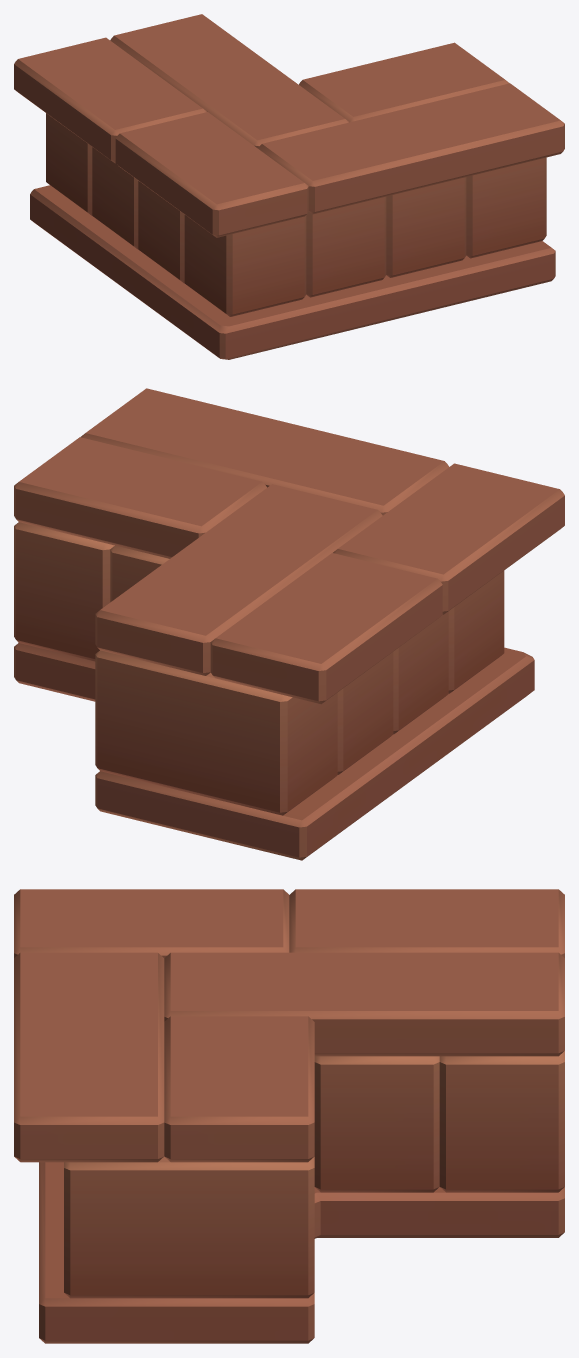
Rendered from bar_outercorner.glb.
3 renders of one model, top to bottom at view 1: azimuth 30°, elevation 25°; view 2: azimuth 150°, elevation 25°; view 3: azimuth 270°, elevation 25°, orthographic. The views are drawn at different scales.
Visible parts, largest first — view 1: bar_outercorner; view 2: bar_outercorner; view 3: bar_outercorner.
Boxes of the visible parts, x1,y1,x2,y2 form: bar_outercorner: [14, 14, 564, 359]; bar_outercorner: [14, 388, 564, 860]; bar_outercorner: [14, 889, 564, 1343].
Size of the model in its own units: 2.2 by 0.9999 by 2.2.
1 material, 1 textured.
